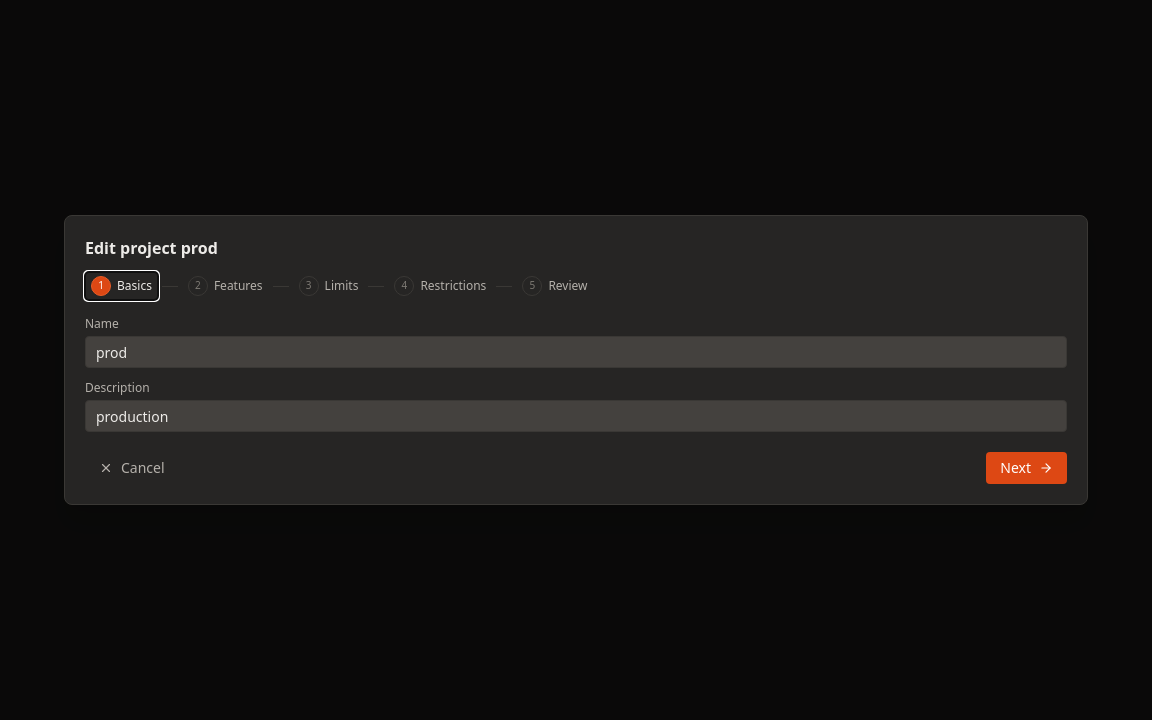
Test: ProjectEditor (edit) › shows a dash and a note instead of usage bars for a non-active project
Click the button "3 Limits" at (328, 286), box [293,272,364,300]
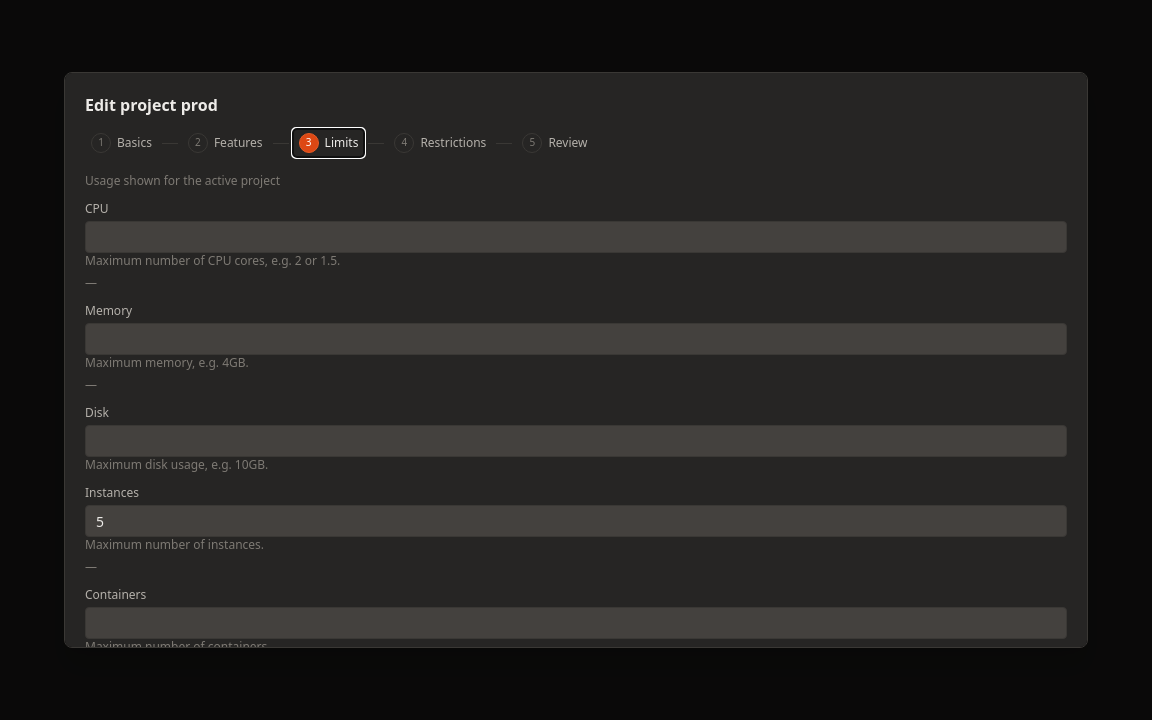
Expected: the text "Usage shown for the active project" is shown, [85,172,280,189]
Expected: the 1st text "—" is shown, [85,275,97,291]
